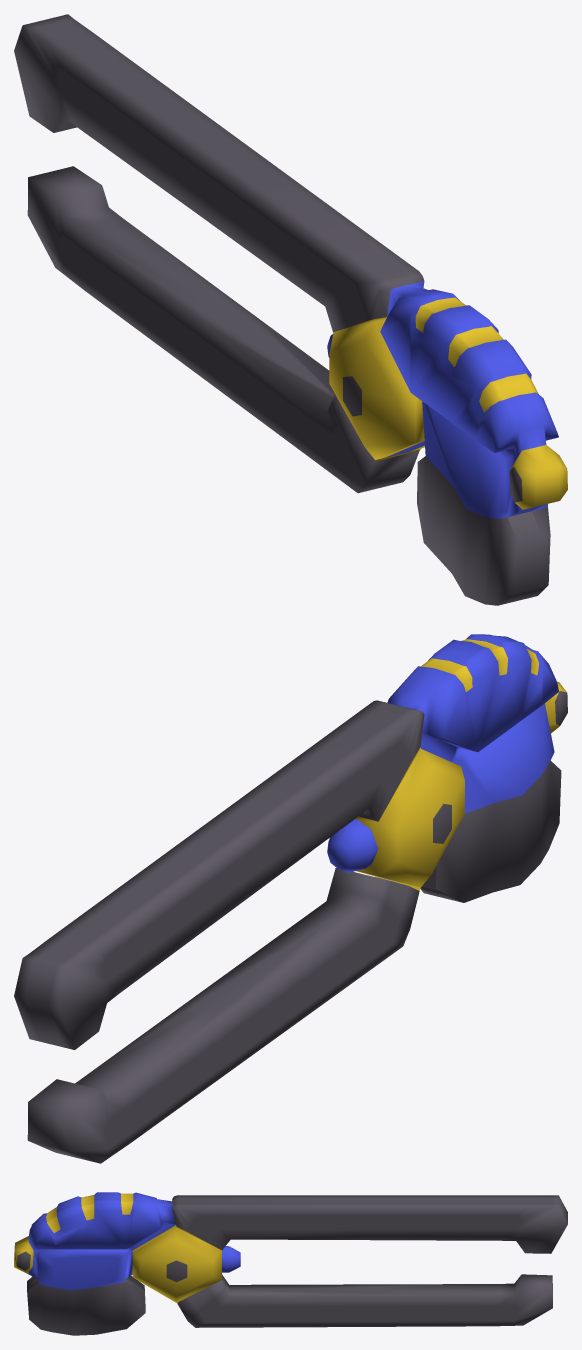
The model's file is Taser.fbx.
3 renders of one model, top to bottom at view 1: azimuth 30°, elevation 25°; view 2: azimuth 150°, elevation 25°; view 3: azimuth 270°, elevation 25°, orthographic. The views are drawn at different scales.
Parts seen in each view (by area): view 1: Taser; view 2: Taser; view 3: Taser.
Boxes of the visible parts, left/top/right/bottom form: Taser: left=14, top=14, right=567, bottom=605; Taser: left=14, top=634, right=567, bottom=1163; Taser: left=14, top=1192, right=567, bottom=1335.
Bounding box in the file's own units: 3.89 × 10.32 × 37.9.
